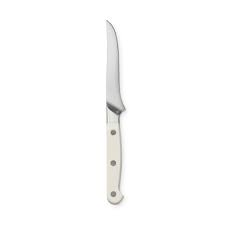knife: (103, 18, 125, 205)
